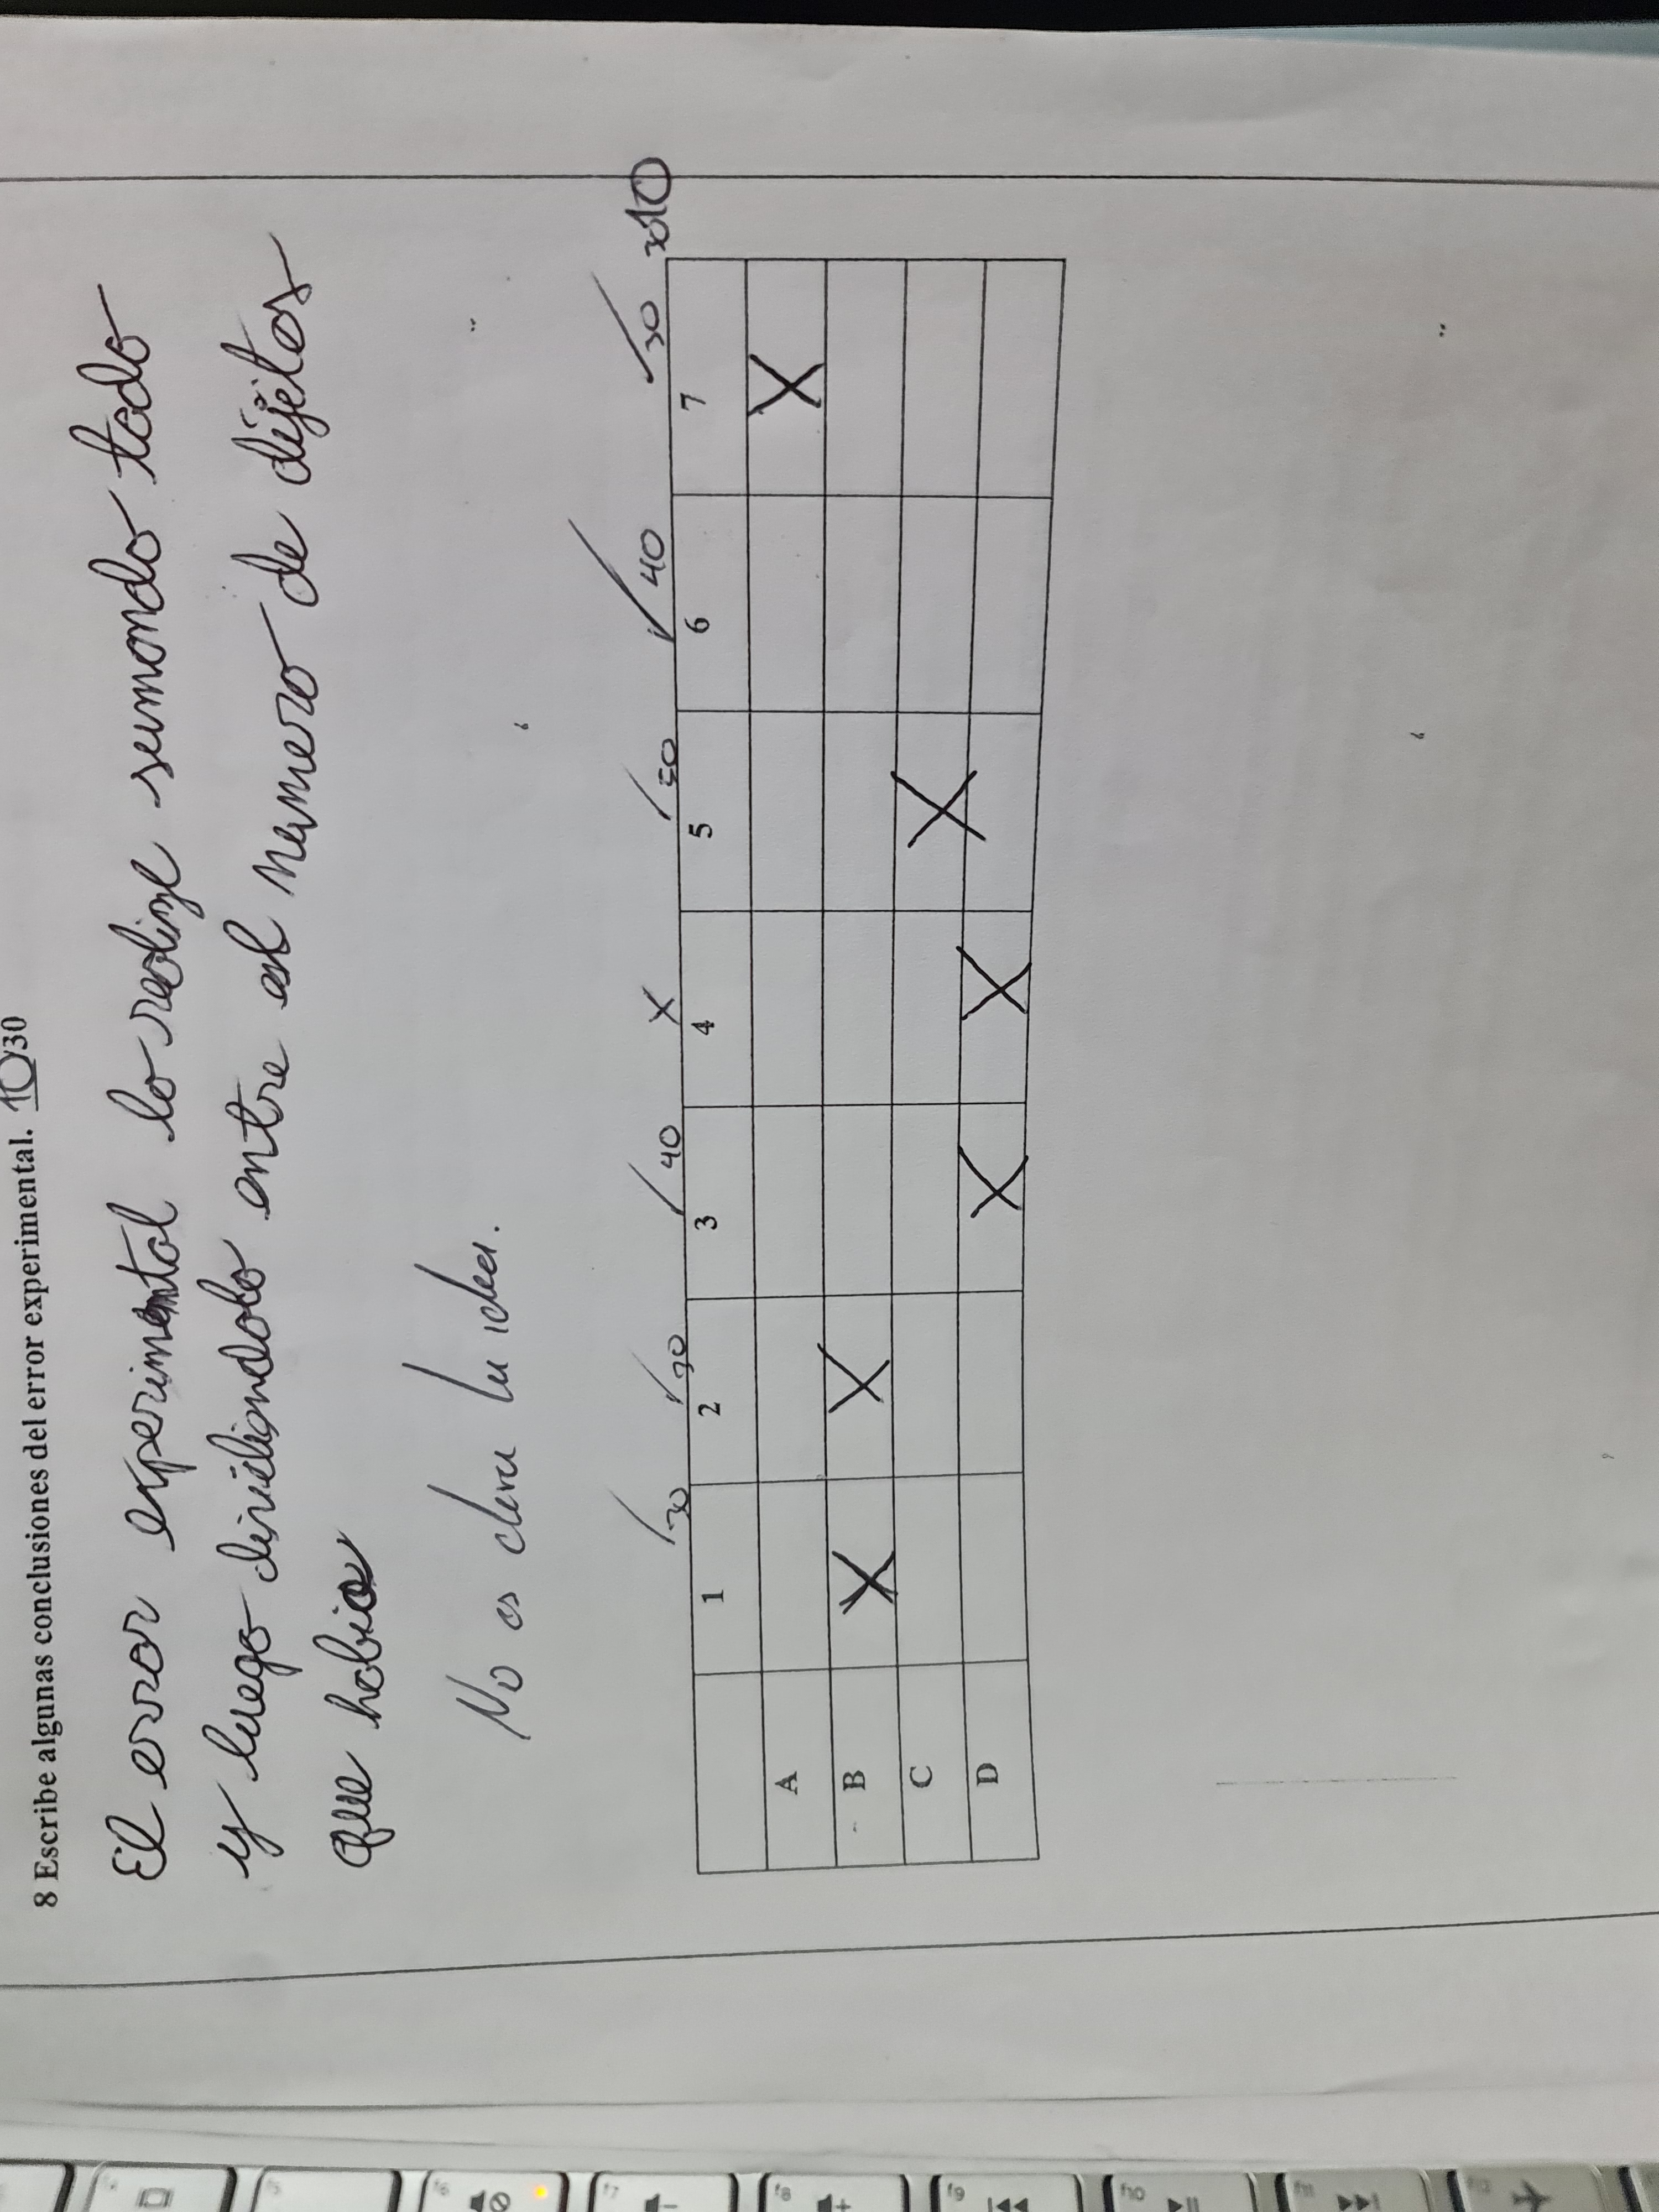column: (685, 1637, 1051, 1893), (669, 1458, 1042, 1703), (655, 700, 1056, 928), (655, 895, 1054, 1120), (664, 1103, 1042, 1305), (669, 1285, 1033, 1487)
